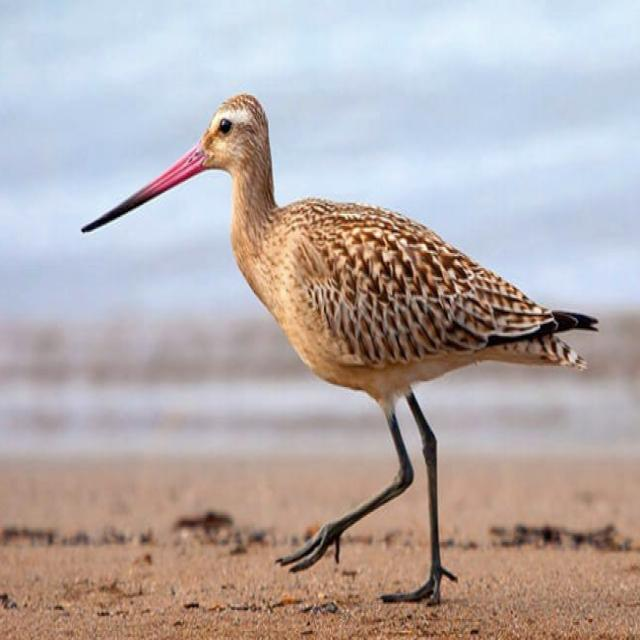sandpiper: (83, 93, 598, 599)
